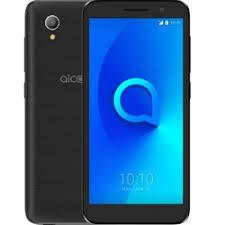Smartphone: (84, 4, 192, 220), (28, 0, 83, 223)
